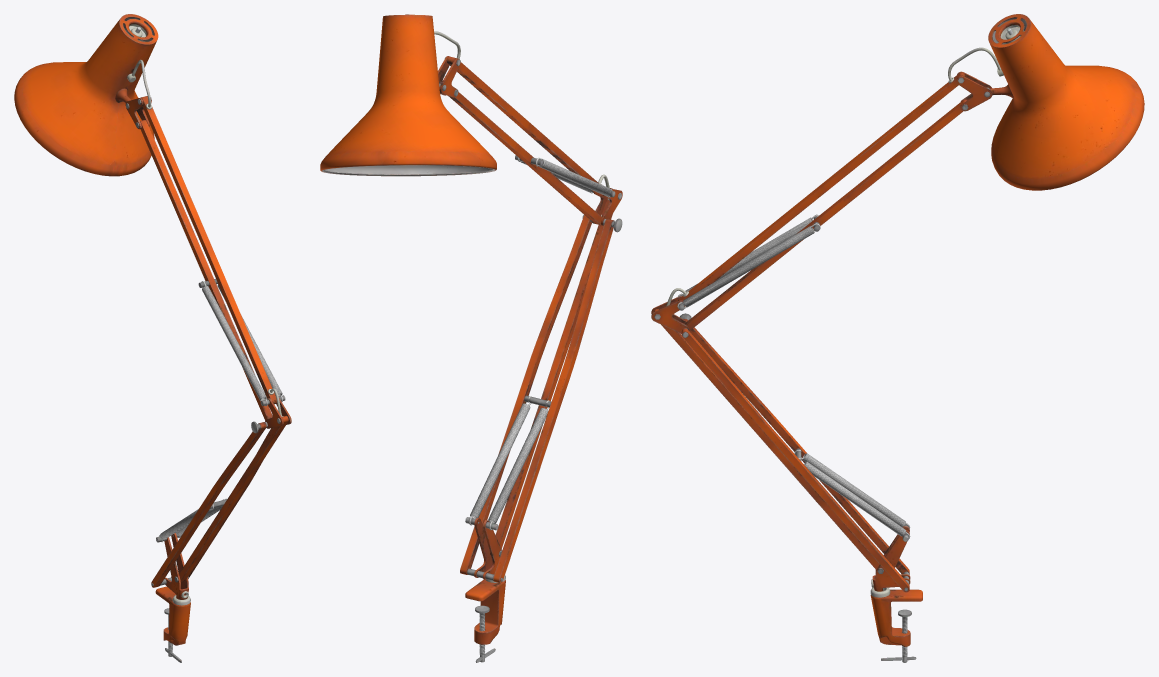
File: desk_lamp_arm_01.glb
3 views of the same model, side by side, from view 1: azimuth 30°, elevation 25°; view 2: azimuth 150°, elevation 25°; view 3: azimuth 270°, elevation 25° (orthographic). The views are drawn at different scales.
Visible parts, largest first — view 1: desk_lamp_arm_01; view 2: desk_lamp_arm_01; view 3: desk_lamp_arm_01.
Part boxes in pixels (box(x1,y1,x2,y2)): desk_lamp_arm_01: box(14, 14, 291, 662); desk_lamp_arm_01: box(320, 14, 622, 662); desk_lamp_arm_01: box(651, 14, 1144, 662).
Bounding box in the file's own units: 0.2017 × 0.8926 × 0.6139.
Materials: 2 (2 with a texture image).
